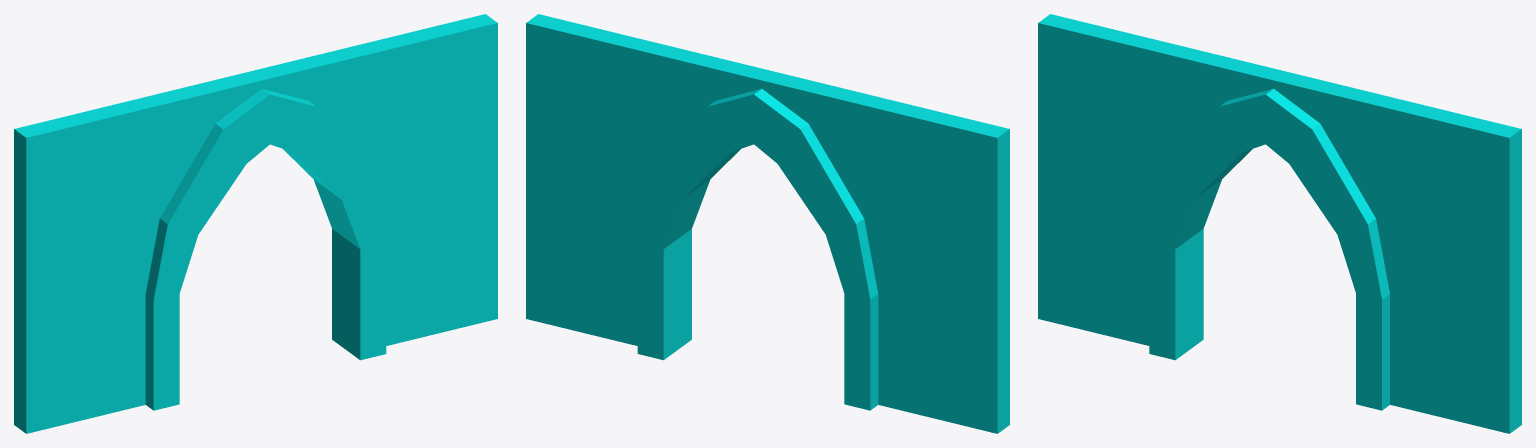
The model's file is SM_Bld_Wall_Alcove_01_Collision.fbx.
The picture shows the model from 3 angles, left to right: view 1: azimuth 30°, elevation 25°; view 2: azimuth 150°, elevation 25°; view 3: azimuth 330°, elevation 25°; orthographic projection.
Parts seen in each view (by area): view 1: SM_Bld_Wall_Alcove_01_Collision; view 2: SM_Bld_Wall_Alcove_01_Collision; view 3: SM_Bld_Wall_Alcove_01_Collision.
Part boxes in pixels (x1,y1,x2,y2): SM_Bld_Wall_Alcove_01_Collision: (14,14,497,433); SM_Bld_Wall_Alcove_01_Collision: (526,14,1009,433); SM_Bld_Wall_Alcove_01_Collision: (1038,14,1521,433).
Bounding box in the file's own units: 500 × 300 × 51.89.
